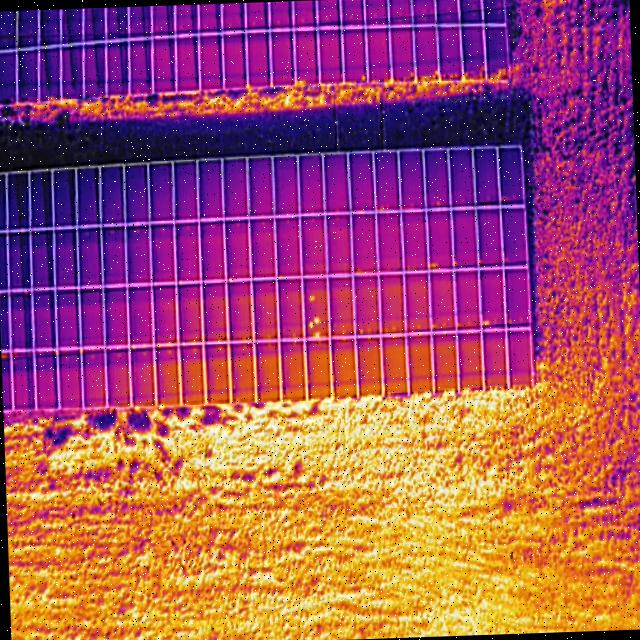Hotspot: (425, 259, 440, 269), (480, 314, 492, 326), (450, 257, 459, 268), (308, 292, 317, 302), (305, 320, 314, 330), (313, 314, 321, 324), (312, 330, 324, 336), (379, 206, 384, 212), (382, 326, 388, 331), (359, 328, 364, 334), (435, 200, 441, 204), (360, 75, 364, 81), (366, 328, 371, 332), (434, 71, 438, 75), (410, 72, 414, 76)
